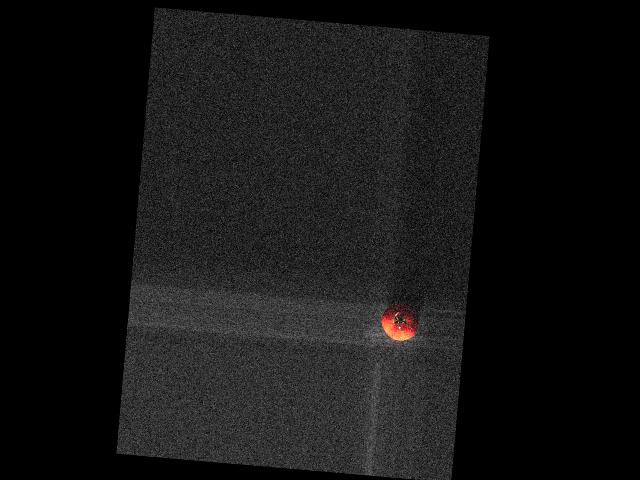tomato: (380, 301, 419, 342)
